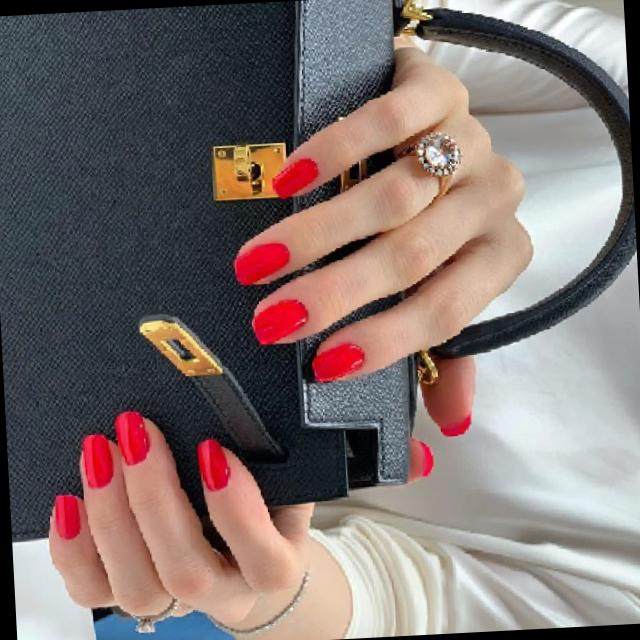Nail: (252, 299, 308, 345), (234, 242, 289, 285), (311, 343, 365, 383), (114, 411, 149, 465), (272, 158, 318, 198), (196, 438, 230, 491), (81, 434, 113, 488), (53, 495, 79, 540)
